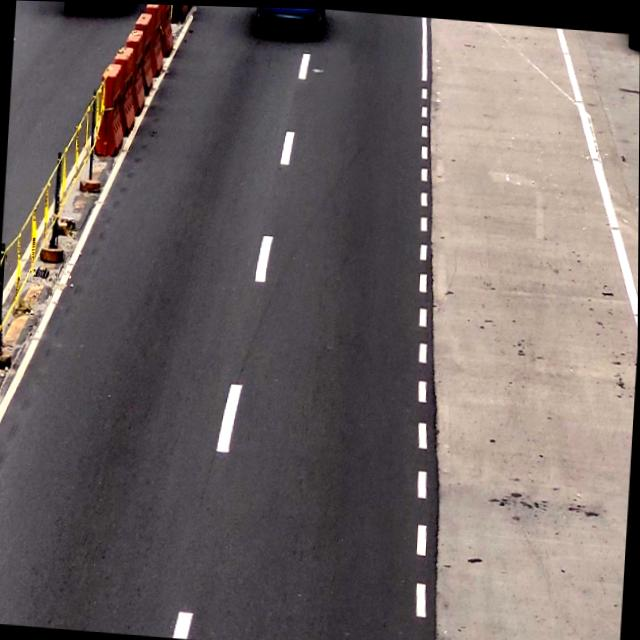Motorcycle: (254, 6, 327, 37)
